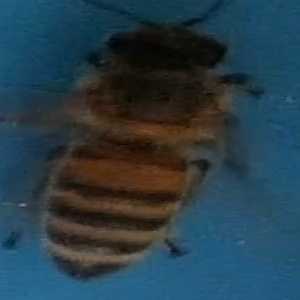bee: (38, 4, 280, 282)
